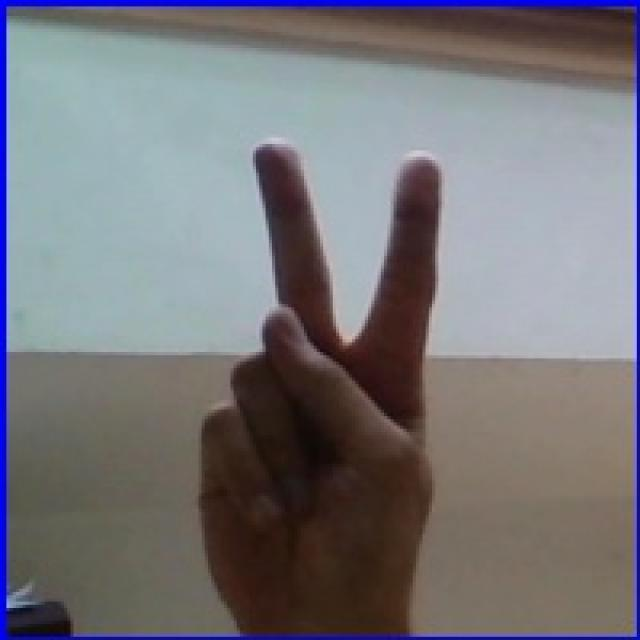K: (172, 115, 489, 636)
